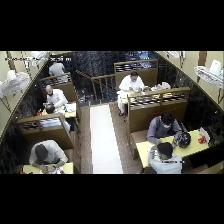person: (117, 72, 144, 116), (30, 140, 67, 171), (147, 113, 182, 144), (149, 143, 182, 173), (46, 86, 67, 108), (49, 56, 65, 76), (41, 119, 60, 126)
